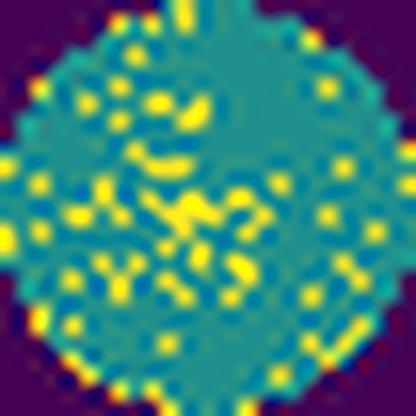Center: (141, 180, 278, 252)
